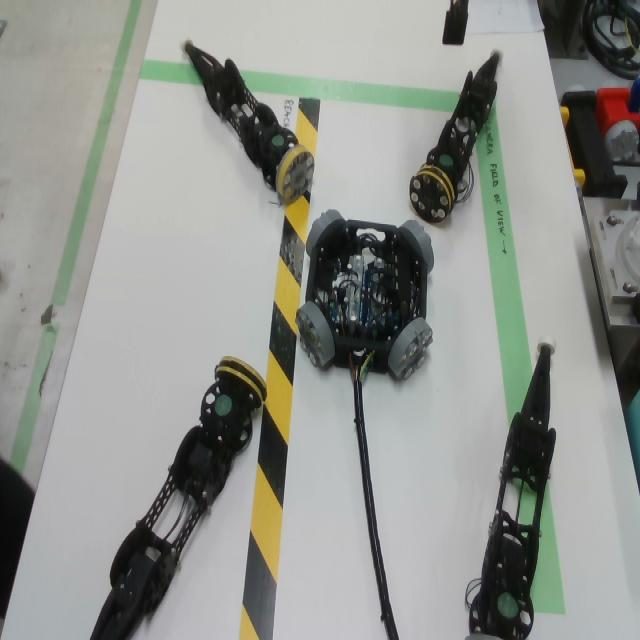body: (305, 221, 427, 375)
body_connector: (387, 317, 433, 381), (295, 301, 336, 368), (398, 220, 434, 275), (306, 209, 346, 257)
leg: (89, 356, 267, 640), (469, 332, 556, 640), (178, 35, 315, 200), (409, 45, 504, 224)
leg_connector: (409, 163, 456, 224), (215, 356, 268, 407), (275, 145, 314, 205), (465, 633, 501, 640)
leg_marker: (497, 592, 519, 620), (215, 393, 232, 416), (439, 153, 453, 167), (272, 135, 284, 145)
